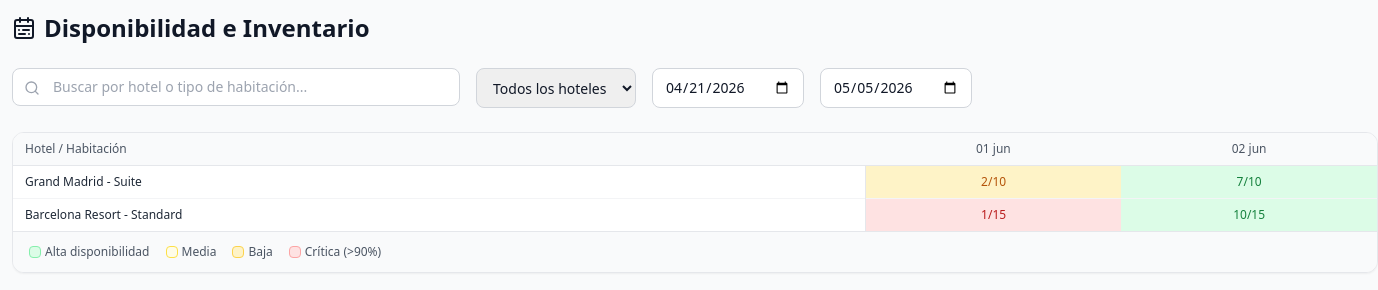
Test case: AvailabilityPage › should show empty state when search has no results
Expected: the text "Grand Madrid - Suite" is shown, [13, 166, 866, 198]
In the field with placeholder "Buscar por hotel o tipo de habitación...": (236, 87) [12, 68, 460, 106], type "zzzznonexistent"
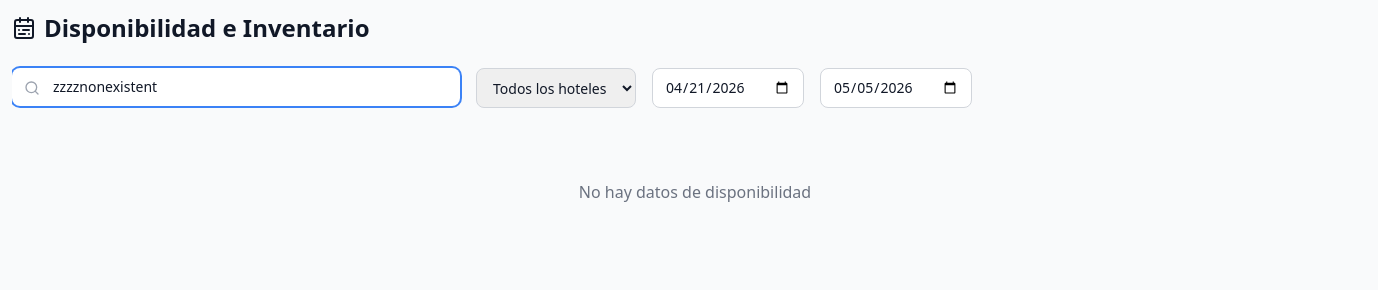
Expected: the text "No hay datos de disponibilidad" is shown, [579, 181, 811, 203]
